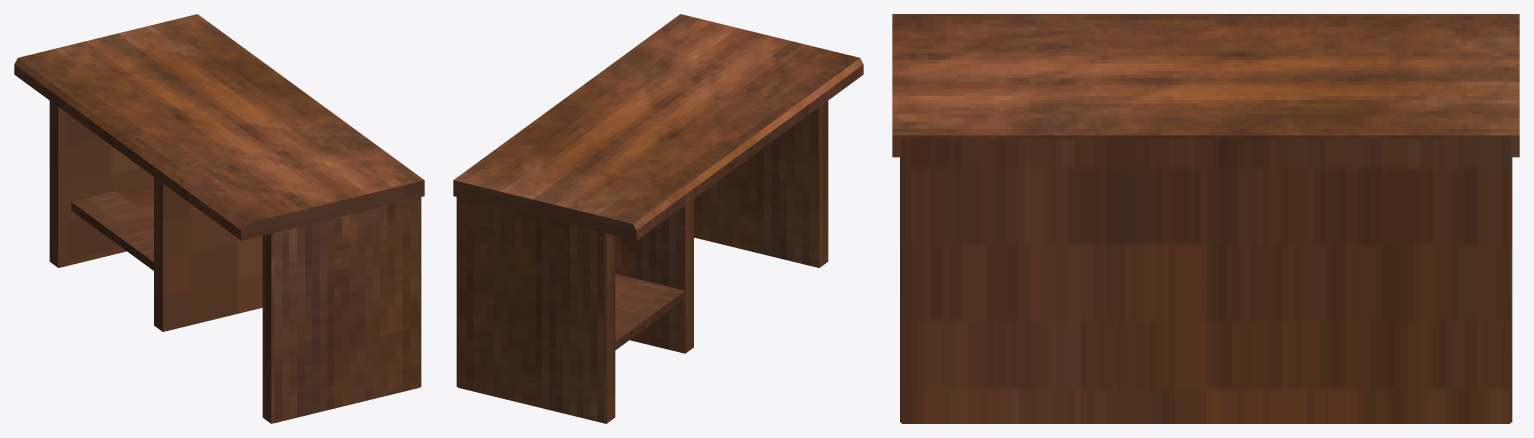
Rendered from desk.fbx.
3 renders of one model, left to right at view 1: azimuth 30°, elevation 25°; view 2: azimuth 150°, elevation 25°; view 3: azimuth 270°, elevation 25°, orthographic. The views are drawn at different scales.
Visible parts, largest first — view 1: desk; view 2: desk; view 3: desk.
Boxes of the visible parts, x1,y1,x2,y2 form: desk: (14,14,424,423); desk: (453,14,863,423); desk: (892,14,1519,423).
Bounding box in the file's own units: 371 × 405 × 797.
